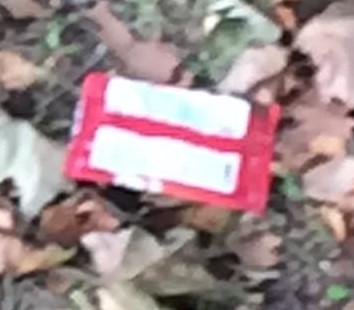plastic: (63, 72, 282, 216)
